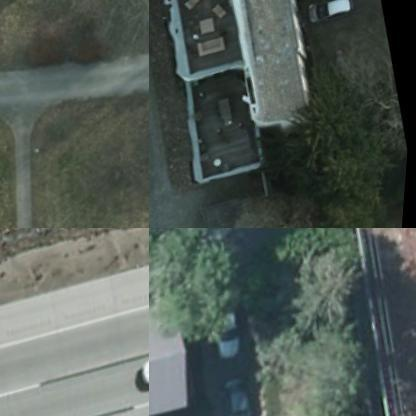car: (207, 294, 253, 362), (216, 376, 266, 415), (304, 0, 357, 30)
